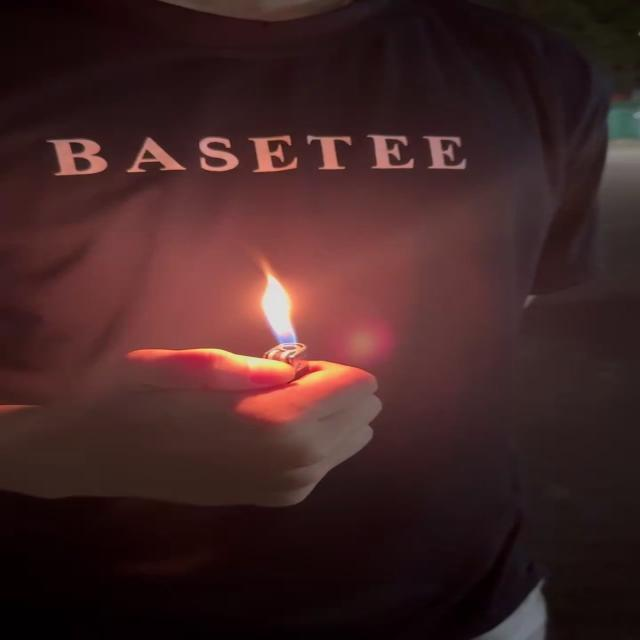Fire: (258, 270, 306, 351)
